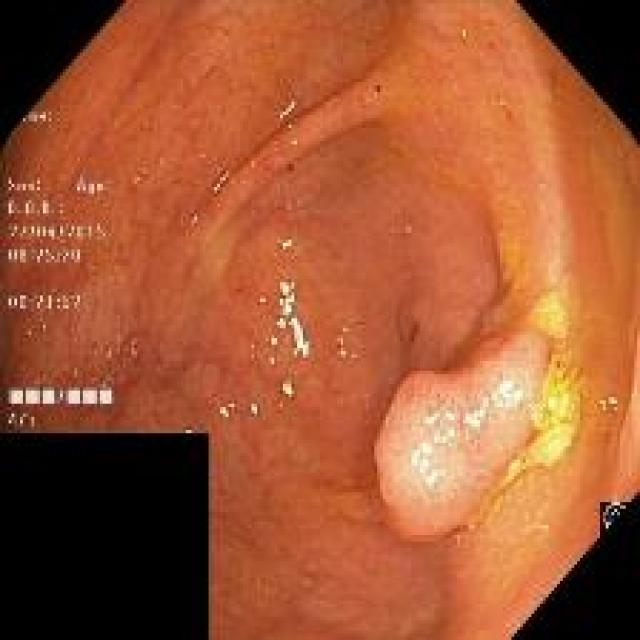Polyps: (375, 330, 549, 541)
